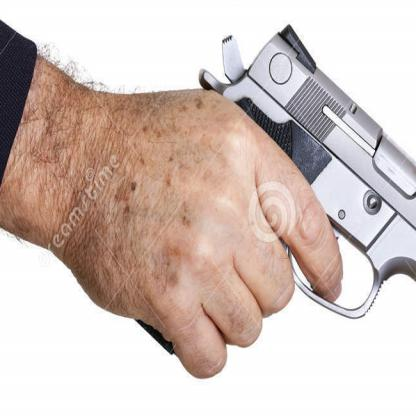gun: (134, 21, 415, 358)
